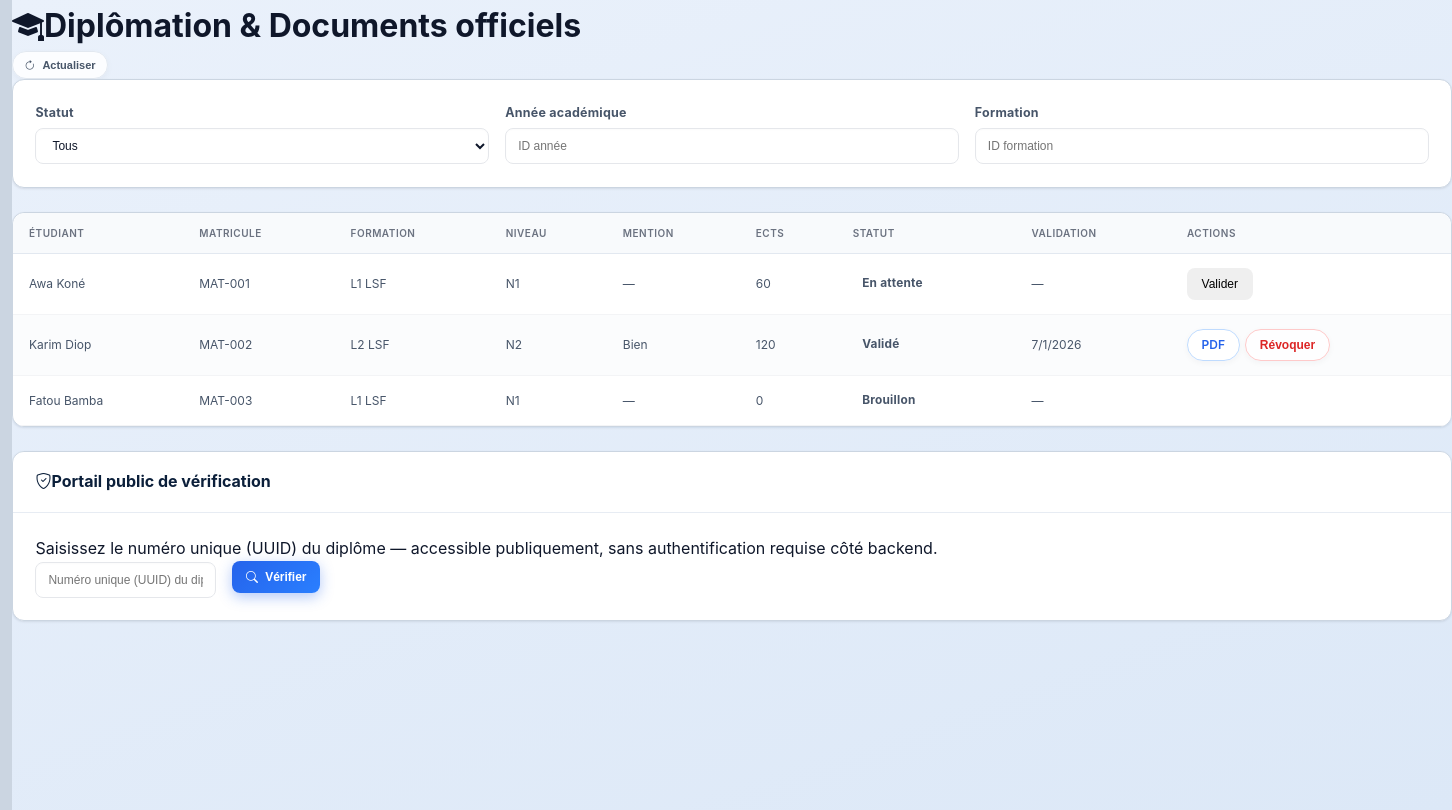
it: pages/scolarite/Graduation — validation et révocation › notifie l’erreur backend quand la validation échoue
The image size is (1452, 810).
Expected: the text "MAT-001" is shown, [183,254,335,314]
Click the button "Valider" at (1220, 284), box [1187,268,1253,300]
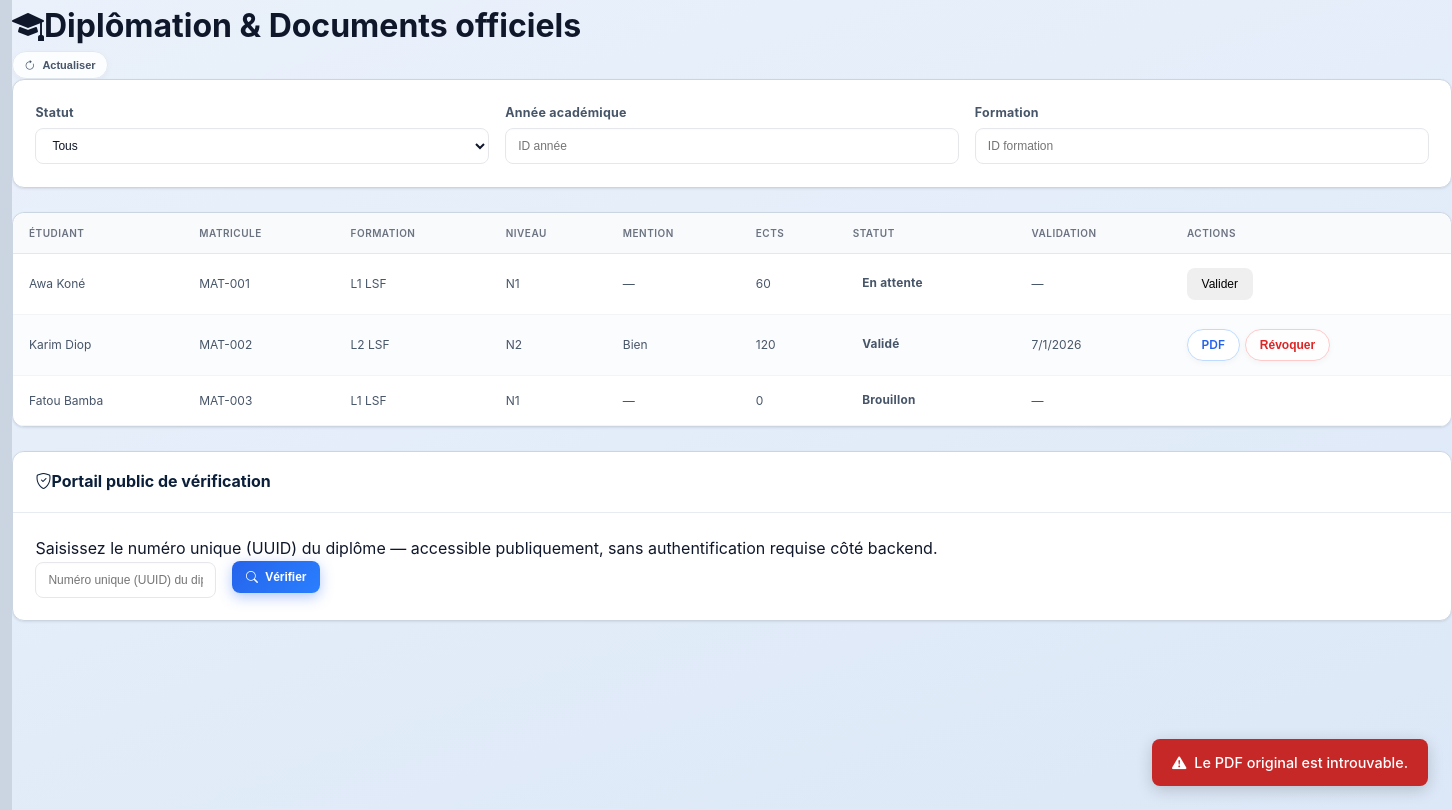
Expected: the text "Le PDF original est introuvable." is shown, [1152,739,1428,786]
